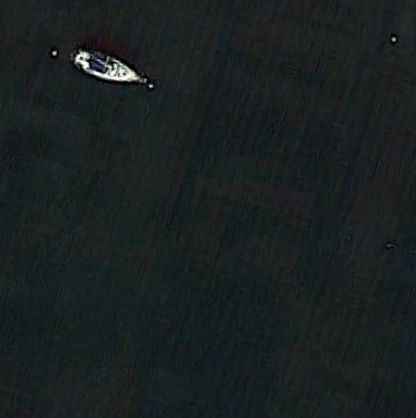boat: (68, 49, 145, 85)
